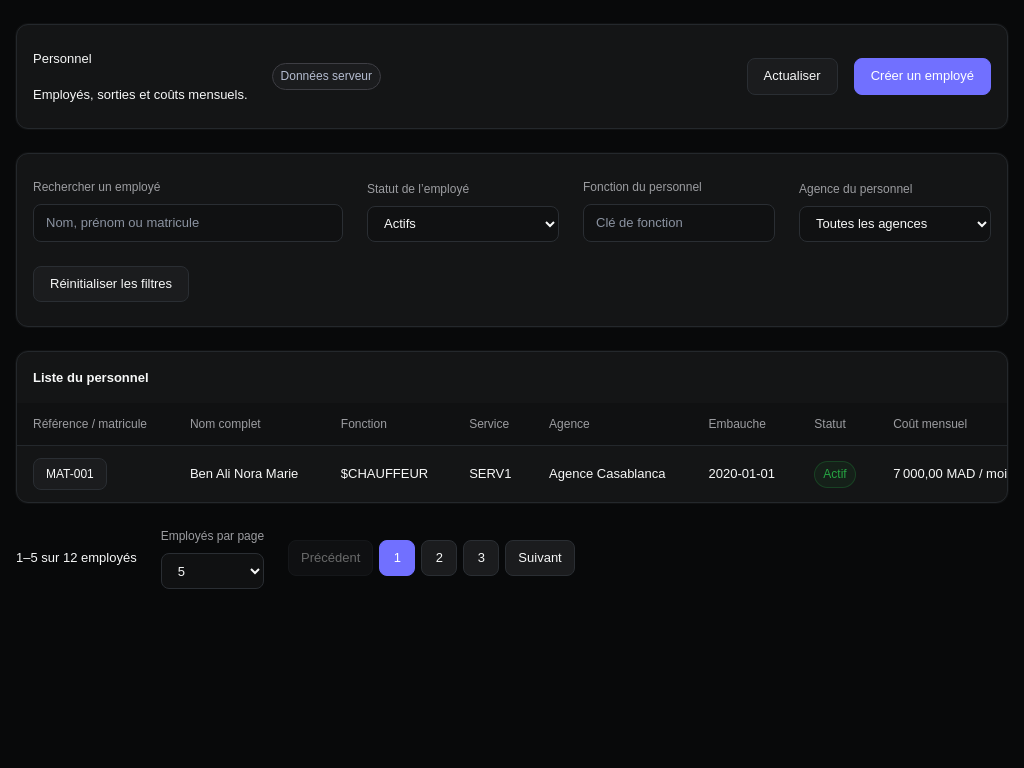
Test: Personnel connected presentation › paginates using server totals and sends filters to the server
Expected: the text "1–5 sur 12 employés" is shown, left=16, top=548, right=137, bottom=568
Click the button "Suivant" at (540, 558), box left=505, top=540, right=575, bottom=576
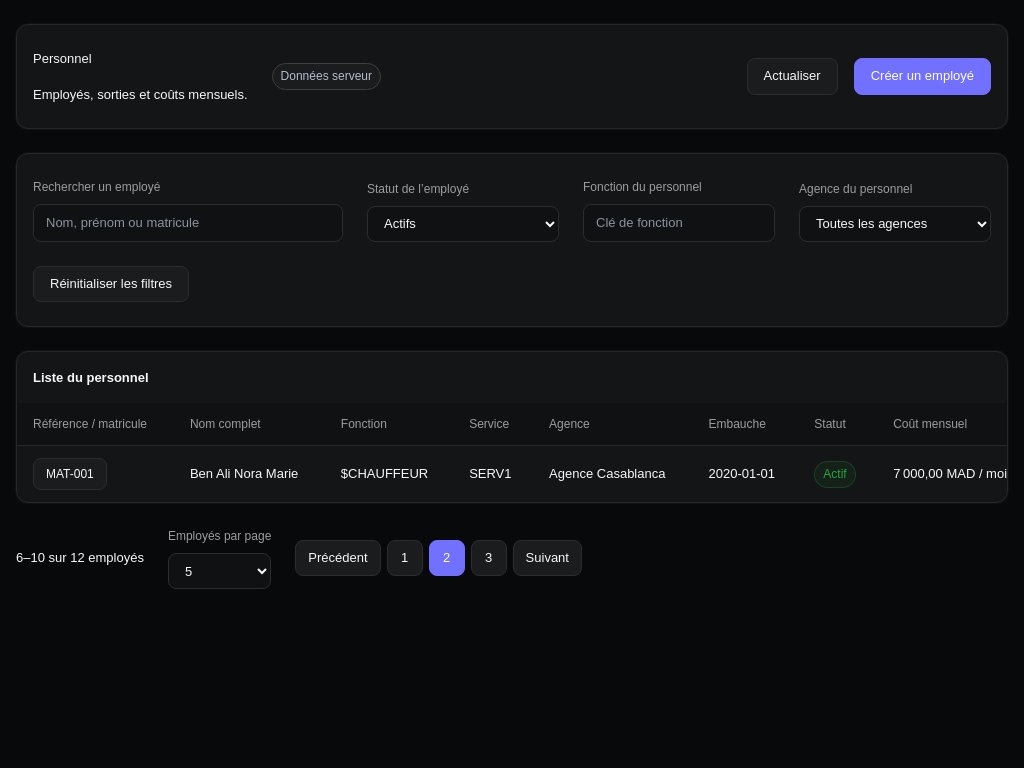
Expected: the text "6–10 sur 12 employés" is shown, left=16, top=548, right=144, bottom=568
Type "Ben" into the field labelled "Rechercher un employé" at (188, 223), box left=33, top=204, right=343, bottom=242
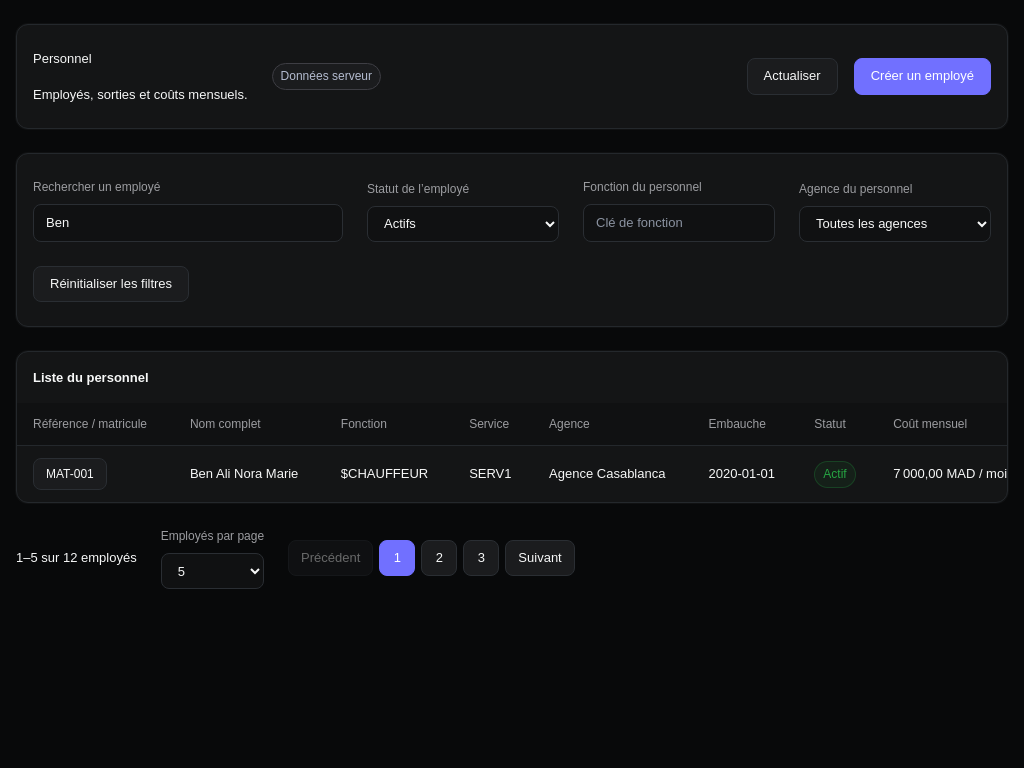
Expected: the text "1–5 sur 12 employés" is shown, left=16, top=548, right=137, bottom=568
